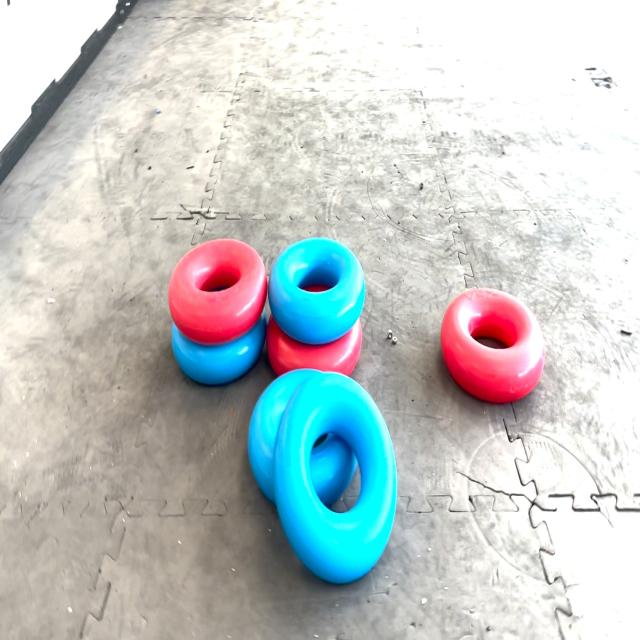Blue-Ring: (274, 373, 398, 582), (269, 238, 365, 344), (248, 369, 312, 502), (171, 311, 266, 384)
Red-Ring: (441, 289, 545, 402), (172, 238, 266, 350), (266, 316, 362, 376)
